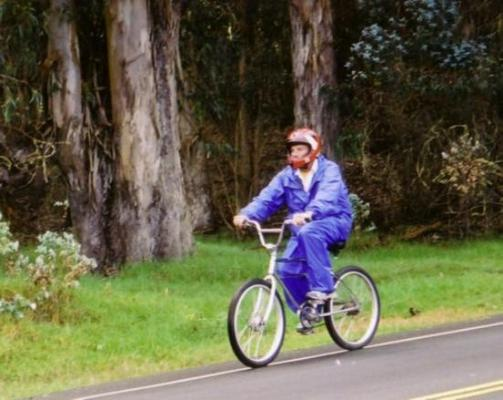person: (235, 130, 354, 325)
